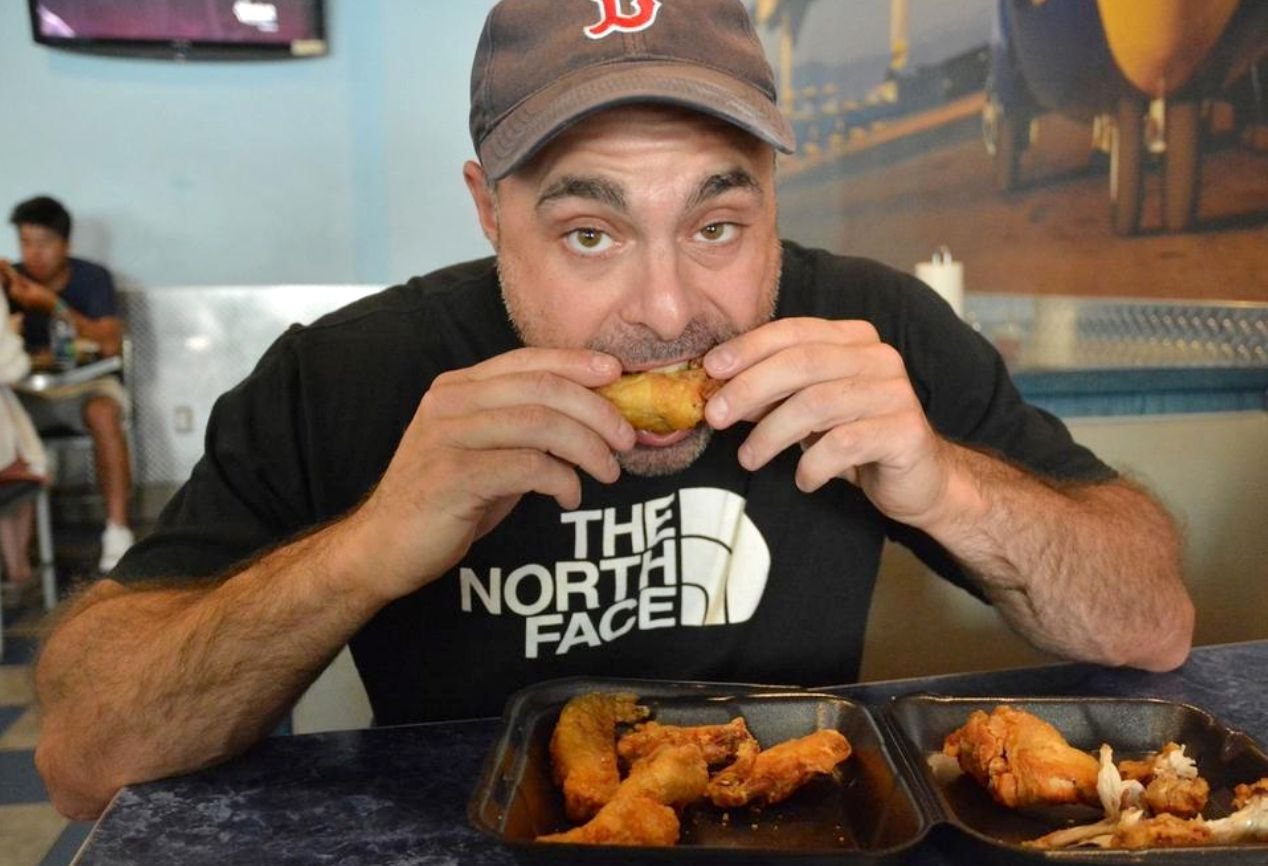eating: (376, 0, 1039, 587)
